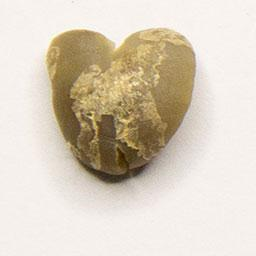defect: (43, 23, 200, 180)
